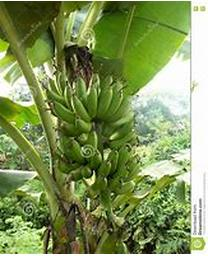banana: (41, 72, 139, 227)
